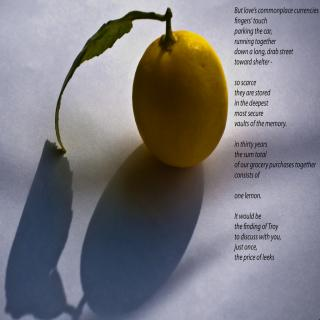Lemon: (132, 29, 228, 167)
